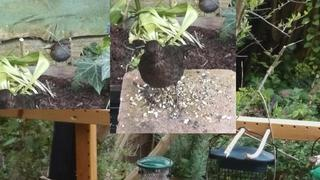blackbird: (137, 40, 196, 114)
sparrow: (44, 40, 70, 65)
